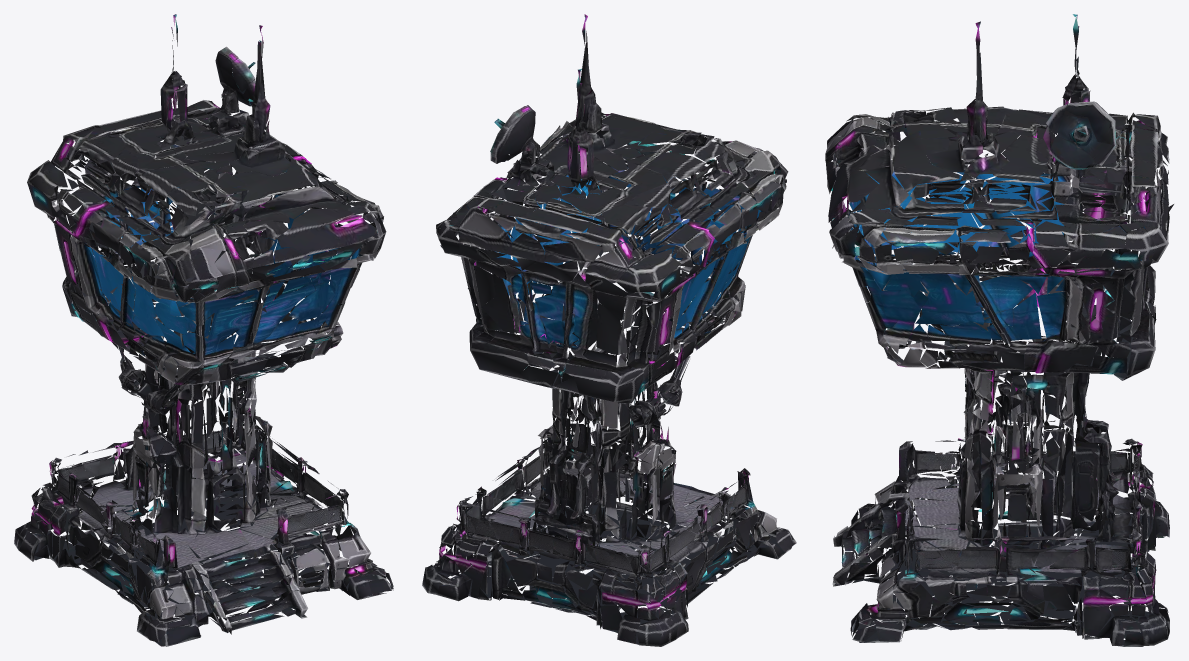
The model's file is control-tower.glb.
The picture shows the model from 3 angles, left to right: view 1: azimuth 30°, elevation 25°; view 2: azimuth 150°, elevation 25°; view 3: azimuth 270°, elevation 25°; orthographic projection. The views are drawn at different scales.
Parts seen in each view (by area): view 1: Mesh_0; view 2: Mesh_0; view 3: Mesh_0.
Boxes of the visible parts, x1,y1,x2,y2 form: Mesh_0: (14,14,393,646); Mesh_0: (422,14,796,646); Mesh_0: (825,14,1173,646).
Size of the model in its own units: 0.4878 by 0.9893 by 0.5393.
1 material, 1 textured.
